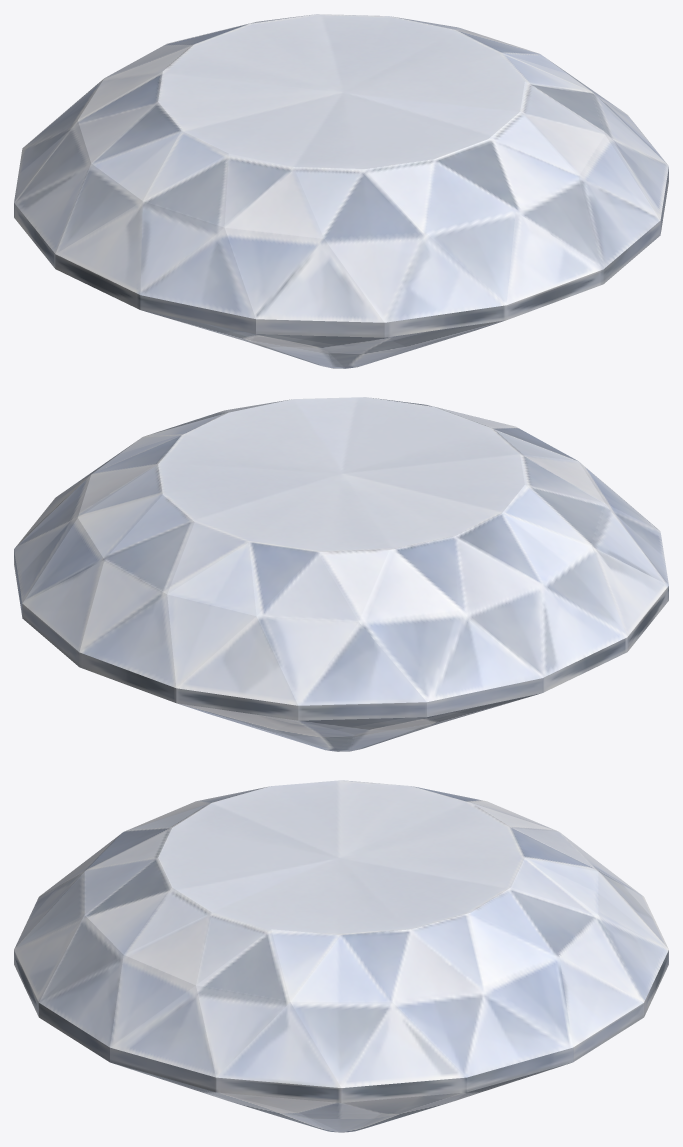
The model's file is item_maw_craft_gem10.glb.
3 renders of one model, top to bottom at view 1: azimuth 30°, elevation 25°; view 2: azimuth 150°, elevation 25°; view 3: azimuth 270°, elevation 25°, orthographic.
Visible parts, largest first — view 1: maw_gem10; view 2: maw_gem10; view 3: maw_gem10.
Boxes of the visible parts, bbox=[...] form: maw_gem10: bbox=[14, 14, 668, 368]; maw_gem10: bbox=[14, 397, 668, 751]; maw_gem10: bbox=[14, 780, 668, 1132].
Bounding box in the file's own units: 2 × 0.88 × 2.
Materials: 1 (1 with a texture image).
